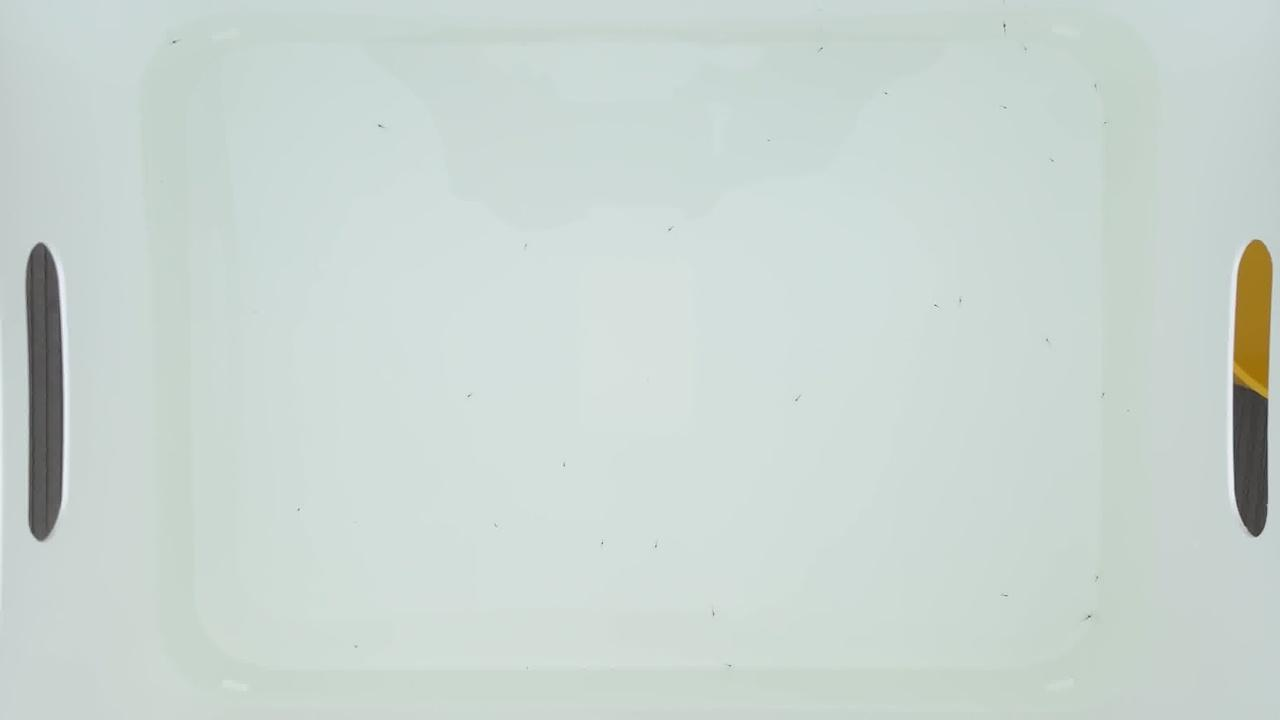shrimp: (171, 38, 183, 46), (377, 124, 389, 132), (520, 244, 532, 252), (664, 226, 676, 234), (793, 394, 805, 402), (465, 395, 477, 403), (557, 462, 569, 470), (492, 524, 504, 532), (296, 505, 308, 513), (352, 645, 364, 653), (596, 541, 608, 549), (652, 545, 664, 553), (708, 609, 720, 617), (721, 663, 733, 671), (1084, 615, 1096, 623), (1092, 575, 1104, 583), (998, 593, 1010, 601), (1099, 394, 1111, 402), (1045, 337, 1057, 345), (956, 297, 968, 305), (931, 303, 943, 311), (1000, 23, 1012, 31), (1019, 45, 1031, 53), (1000, 106, 1012, 114), (1048, 158, 1060, 166), (1101, 120, 1113, 128), (1091, 83, 1103, 91), (880, 92, 892, 100), (815, 46, 827, 54)
